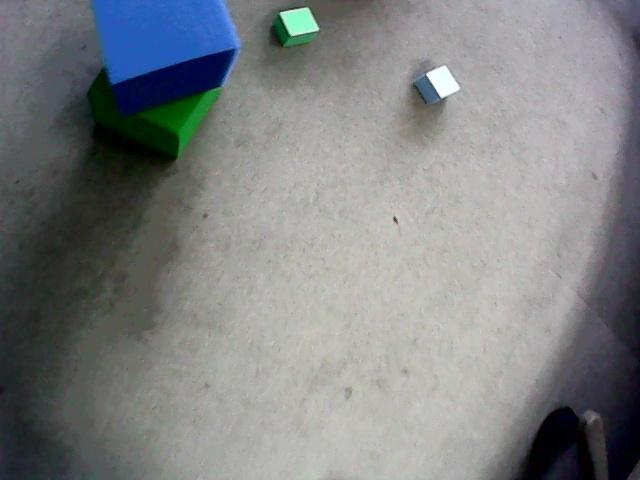blue_block: (92, 0, 240, 115), (414, 66, 459, 103), (414, 74, 441, 104)
